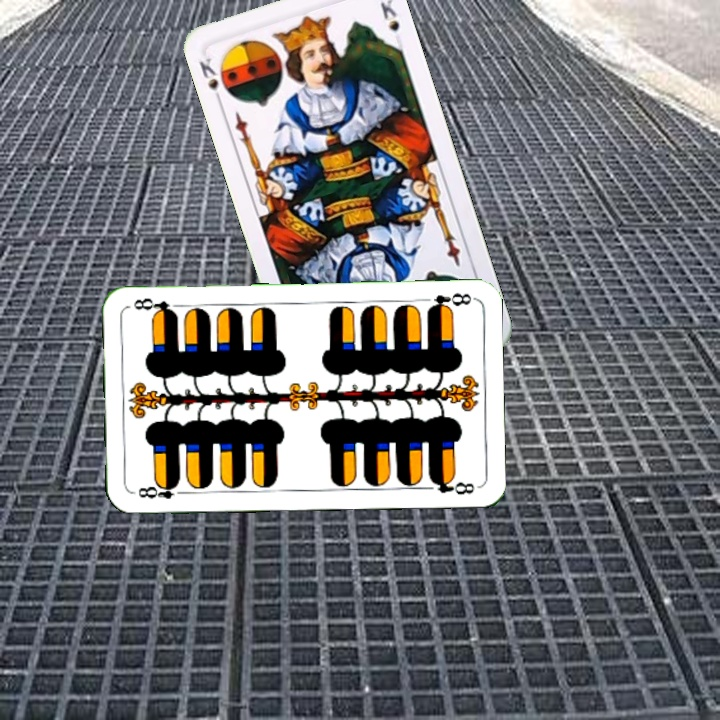E8: (423, 288, 476, 314), (134, 478, 189, 502)
SK: (195, 53, 225, 108)
